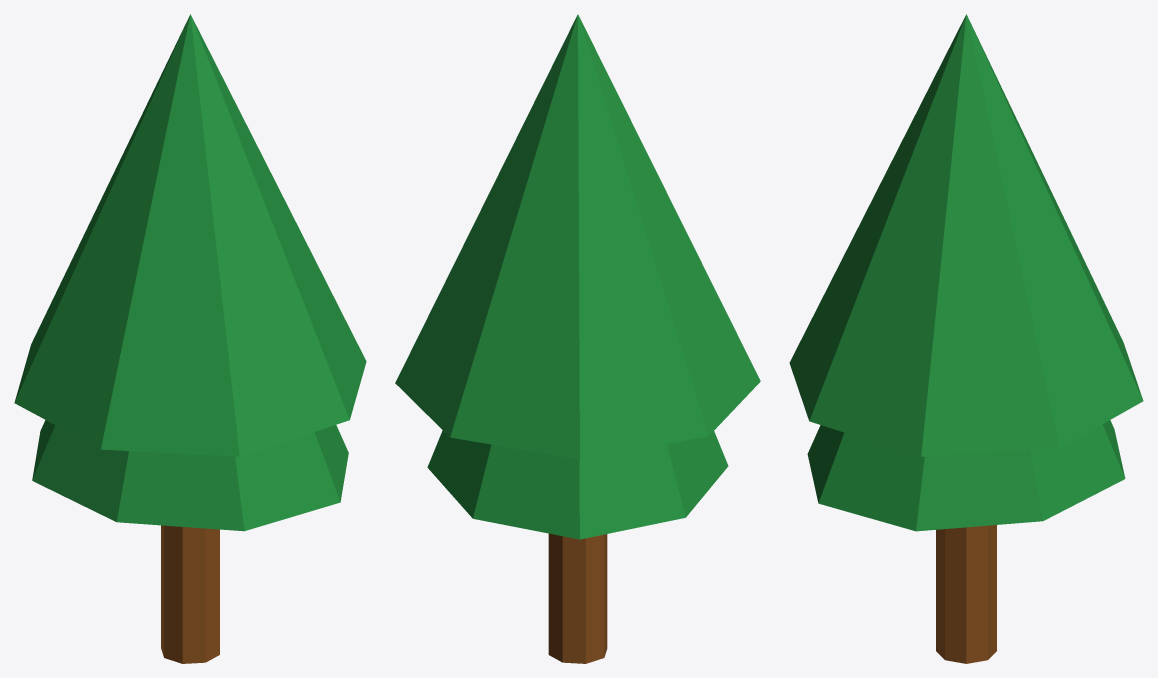
File: tree.glb
The picture shows the model from 3 angles, left to right: view 1: azimuth 30°, elevation 25°; view 2: azimuth 150°, elevation 25°; view 3: azimuth 270°, elevation 25°; orthographic projection.
Visible parts, largest first — view 1: tree; view 2: tree; view 3: tree.
Part boxes in pixels (x1,y1,x2,y2): tree: [14, 14, 366, 663]; tree: [395, 14, 760, 663]; tree: [789, 14, 1143, 663].
Bounding box in the file's own units: 1.74 × 3.46 × 1.74.
